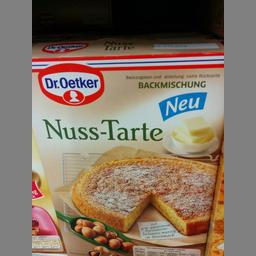cake: (31, 39, 223, 255)
